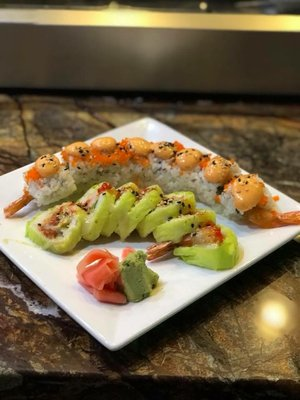curry: (119, 249, 160, 302)
